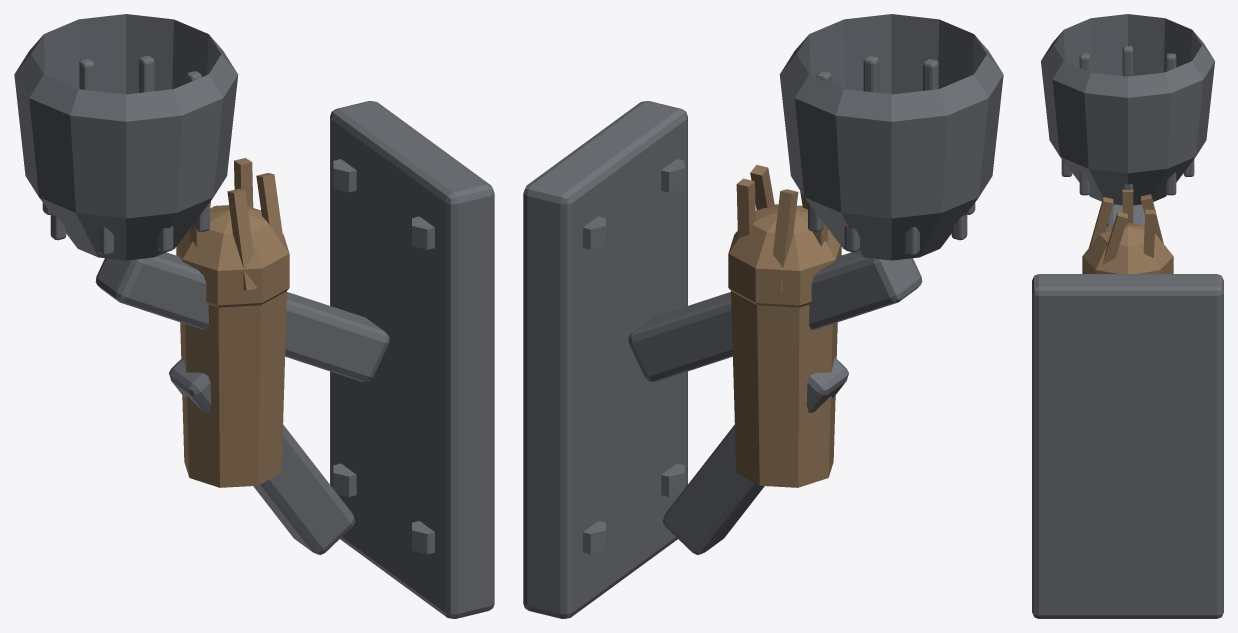
File: monastery_wall_torch_bracket.glb
3 renders of one model, left to right at view 1: azimuth 30°, elevation 25°; view 2: azimuth 150°, elevation 25°; view 3: azimuth 270°, elevation 25°, orthographic. The views are drawn at different scales.
Parts seen in each view (by area): view 1: world; view 2: world; view 3: world.
Part boxes in pixels (x1,y1,x2,y2): world: [14, 14, 494, 618]; world: [523, 14, 1003, 618]; world: [1032, 14, 1223, 618].
Size of the model in its own units: 1.45 by 2 by 0.7586.
